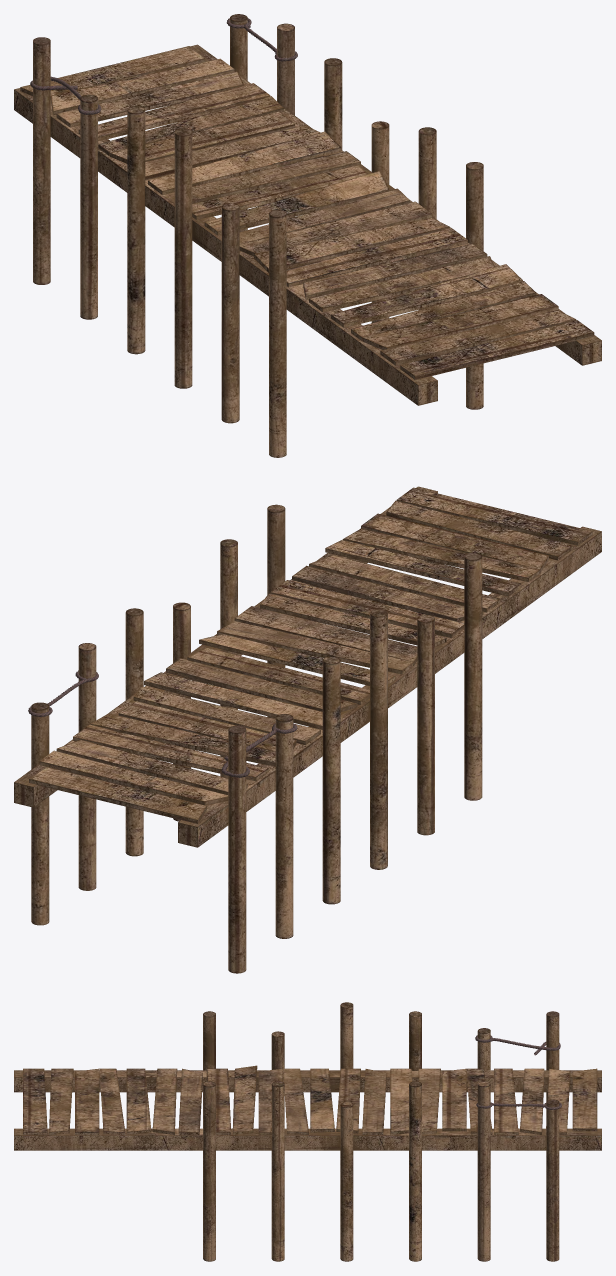
Rendered from rustic.glb.
3 renders of one model, top to bottom at view 1: azimuth 30°, elevation 25°; view 2: azimuth 150°, elevation 25°; view 3: azimuth 270°, elevation 25°, orthographic. The views are drawn at different scales.
Parts seen in each view (by area): view 1: Cube.010, Cube.008, Cube, Cube.012, Cube.016, Cube.009, Cube.013, Cube.011, Cylinder, Cylinder.003, Cylinder.002, Cylinder.001 (+2 smaller); view 2: Cube.010, Cube, Cube.008, Cube.016, Cube.013, Cube.012, Cube.011, Cube.009, Cylinder.005, Cylinder.004, Cylinder.003, Cylinder (+2 smaller); view 3: Cube, Cube.010, Cube.012, Cube.009, Cube.008, Cube.013, Cube.016, Cube.011, Cylinder.002, Cylinder.003, Cylinder, Cylinder.001 (+3 smaller).
Boxes of the visible parts, x1,y1,x2,y2 form: Cube.010: (20, 46, 558, 349); Cube.008: (148, 131, 594, 379); Cube: (14, 44, 601, 405); Cube.012: (78, 83, 522, 327); Cube.016: (50, 58, 487, 299); Cube.009: (145, 125, 576, 365); Cube.013: (56, 71, 494, 312); Cube.011: (98, 96, 536, 340); Cylinder: (269, 162, 483, 457); Cylinder.003: (127, 58, 342, 354); Cylinder.002: (174, 121, 389, 388); Cylinder.001: (221, 127, 436, 423); Cube.010: (29, 513, 548, 823); Cube: (14, 486, 601, 847); Cube.008: (144, 487, 592, 729); Cube.016: (39, 565, 483, 805); Cube.013: (56, 555, 500, 794); Cube.012: (73, 539, 521, 781); Cube.011: (90, 528, 539, 766); Cube.009: (133, 500, 573, 745); Cylinder.005: (31, 702, 246, 973); Cylinder.004: (78, 643, 293, 938); Cylinder.003: (125, 608, 340, 904); Cylinder: (267, 504, 482, 800); Cube: (14, 1070, 601, 1150); Cube.010: (75, 1068, 597, 1134); Cube.012: (126, 1068, 518, 1134); Cube.009: (49, 1065, 440, 1134); Cube.008: (23, 1068, 412, 1134); Cube.013: (152, 1068, 544, 1134); Cube.016: (178, 1068, 570, 1134); Cube.011: (99, 1068, 492, 1134); Cylinder.002: (340, 1002, 353, 1261); Cylinder.003: (409, 1011, 421, 1261); Cylinder: (203, 1011, 215, 1261); Cylinder.001: (271, 1031, 284, 1261).
Bounding box in the file's own units: 8.04 × 8.9 × 25.78.
1 material, 1 textured.
